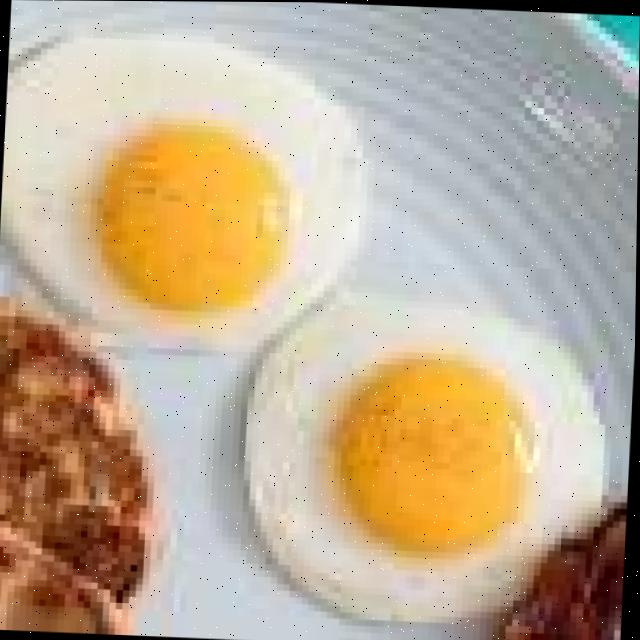Egg: (248, 281, 605, 621), (0, 38, 363, 352)
